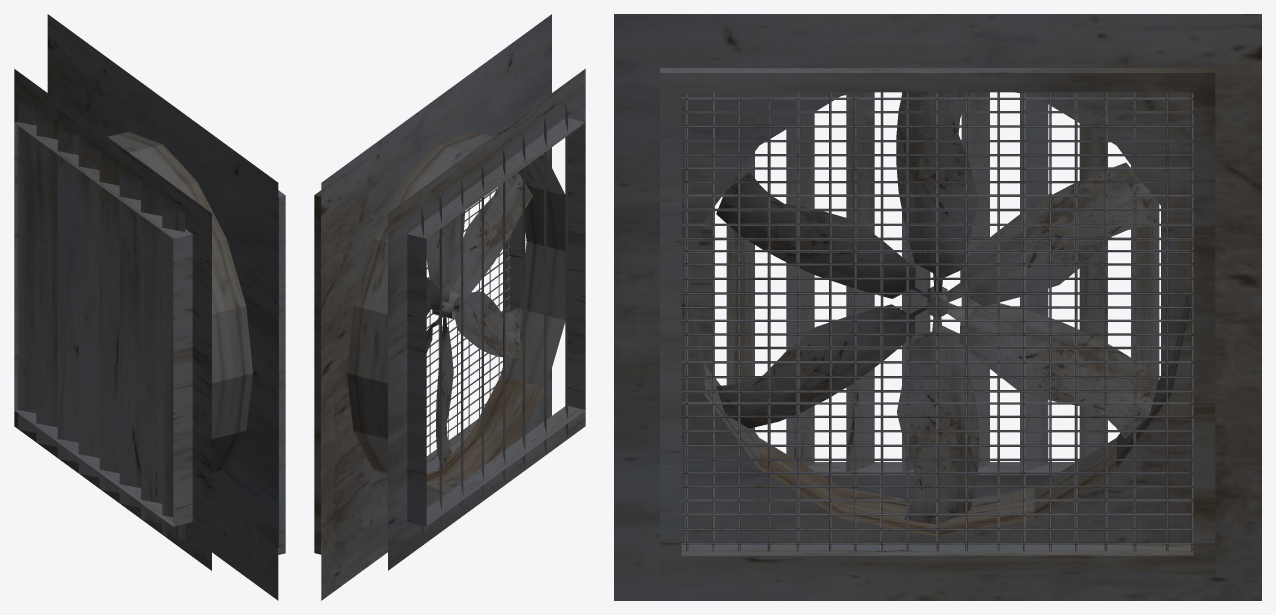
The model's file is paifengshan.FBX.
3 renders of one model, left to right at view 1: azimuth 30°, elevation 25°; view 2: azimuth 150°, elevation 25°; view 3: azimuth 270°, elevation 25°, orthographic. The views are drawn at different scales.
Parts seen in each view (by area): view 1: fangzi_09; view 2: fangzi_09, paifengshan, fangzi_10; view 3: fangzi_09, fangzi_10, paifengshan.
Boxes of the visible parts, x1=… form: fangzi_09: x1=14, y1=14, x2=285, y2=600; fangzi_09: x1=314, y1=14, x2=585, y2=600; paifengshan: x1=426, y1=172, x2=532, y2=472; fangzi_10: x1=426, y1=188, x2=510, y2=460; fangzi_09: x1=614, y1=14, x2=1261, y2=600; fangzi_10: x1=681, y1=92, x2=1193, y2=551; paifengshan: x1=716, y1=92, x2=1158, y2=524.
Bounding box in the file's own units: 69.38 × 297 × 297.
